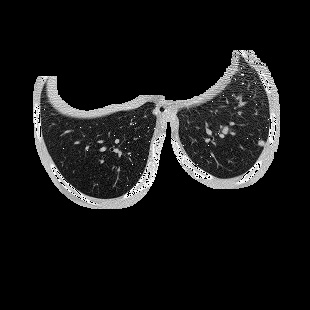PN: (258, 140, 266, 148)
